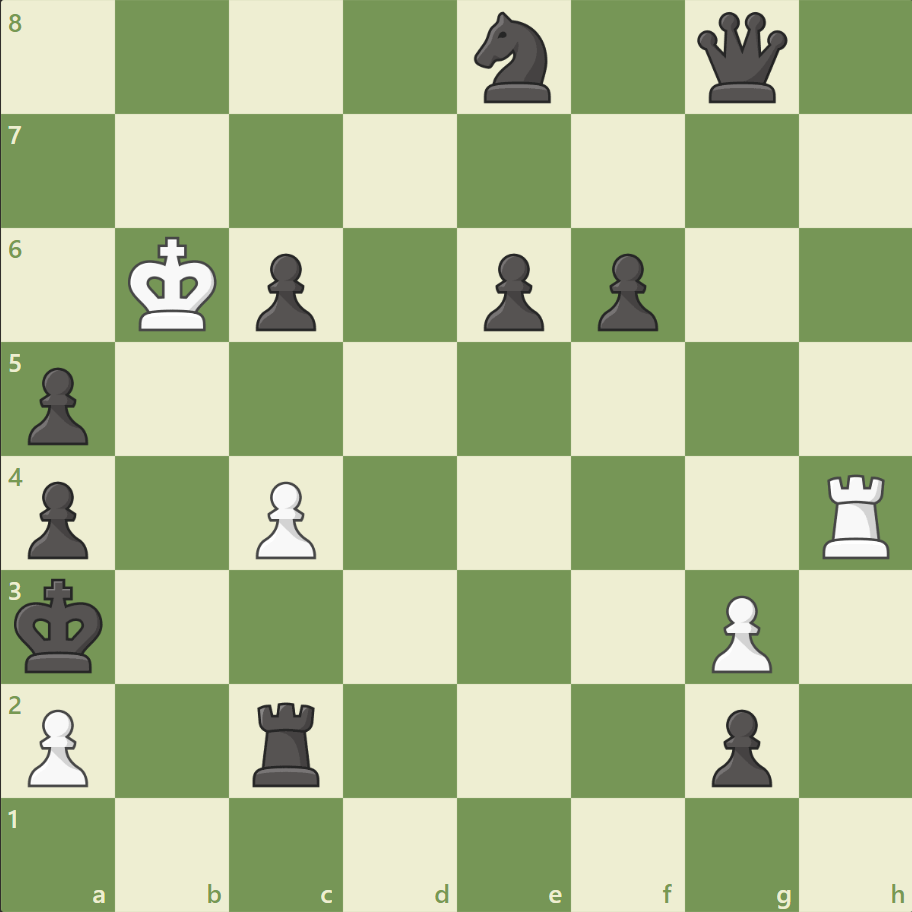K: (124, 231, 224, 339)
P: (247, 473, 322, 564), (701, 586, 776, 677), (20, 700, 95, 791)
R: (814, 466, 897, 563)
k: (11, 571, 111, 679)
n: (465, 7, 562, 110)
p: (247, 246, 322, 337), (474, 246, 549, 337), (20, 359, 95, 450), (20, 473, 95, 564), (701, 700, 776, 791), (588, 246, 662, 337)
q: (691, 9, 790, 108)
r: (246, 693, 329, 790)
